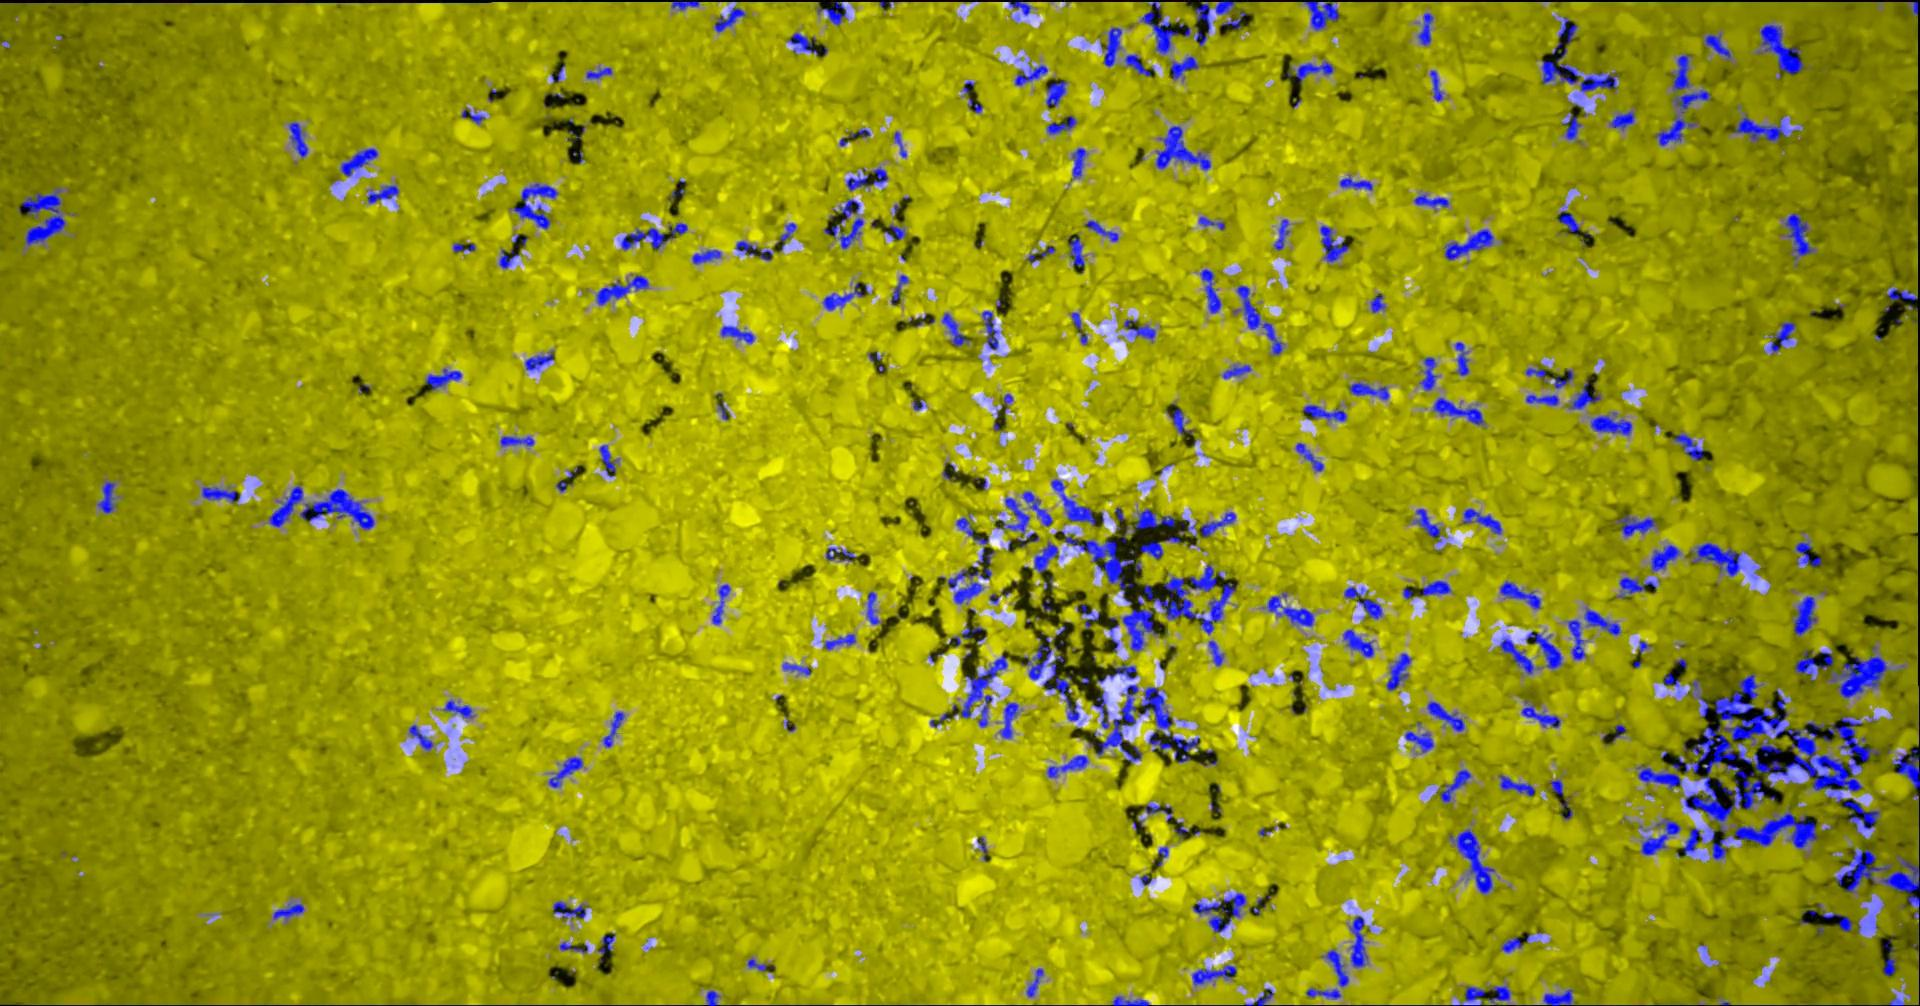ant: (1030, 636, 1079, 720), (949, 517, 996, 603), (1097, 683, 1143, 762), (1234, 285, 1284, 354), (963, 654, 1008, 727), (1451, 829, 1496, 893), (1157, 124, 1211, 169), (1882, 855, 1920, 918), (1672, 55, 1713, 112), (1761, 24, 1804, 77), (1837, 848, 1892, 890), (1194, 893, 1247, 932), (1051, 479, 1097, 525), (1142, 0, 1180, 53), (1716, 673, 1759, 719), (516, 183, 559, 227), (622, 222, 690, 249), (1691, 542, 1742, 575), (1269, 593, 1316, 626), (598, 276, 650, 305), (1837, 795, 1881, 829), (1446, 229, 1495, 259), (1642, 818, 1681, 854), (1785, 213, 1815, 259), (1435, 398, 1484, 424), (1735, 116, 1789, 140), (1528, 631, 1563, 668), (270, 486, 303, 526), (824, 282, 869, 310), (1501, 638, 1535, 673), (998, 497, 1031, 533), (1346, 586, 1383, 619), (1796, 649, 1835, 680), (1656, 116, 1697, 145), (1501, 580, 1542, 608), (1895, 744, 1920, 788), (550, 756, 584, 788), (1429, 701, 1465, 730), (1305, 0, 1340, 30), (1023, 492, 1054, 526), (1523, 700, 1561, 727), (1134, 508, 1176, 532), (1441, 768, 1472, 801), (1464, 508, 1503, 533), (1322, 225, 1350, 260), (1289, 61, 1335, 83), (342, 149, 378, 175), (1388, 653, 1413, 690), (1592, 412, 1633, 434), (1049, 754, 1090, 777), (1351, 915, 1369, 967), (943, 312, 971, 345), (1203, 511, 1237, 537), (1191, 564, 1225, 591), (1201, 268, 1222, 312), (1586, 608, 1622, 634), (1543, 60, 1582, 83), (1675, 433, 1708, 460), (1327, 948, 1350, 986), (1192, 965, 1238, 984), (1032, 542, 1060, 573), (1618, 514, 1657, 536), (1796, 596, 1817, 635), (1571, 381, 1603, 408), (1343, 629, 1375, 655), (1417, 508, 1443, 541), (1297, 442, 1324, 471), (1652, 544, 1683, 570), (1501, 774, 1537, 796), (1102, 27, 1123, 66), (1771, 321, 1797, 352), (1619, 577, 1657, 597), (604, 711, 626, 747), (712, 584, 731, 624), (737, 240, 773, 260), (427, 368, 463, 389), (1086, 220, 1120, 241), (841, 217, 865, 248), (1304, 404, 1349, 420), (1125, 318, 1157, 340), (1164, 520, 1196, 542), (1570, 619, 1587, 659), (1016, 64, 1049, 85), (1168, 408, 1195, 434), (819, 0, 847, 25), (716, 8, 745, 32), (290, 121, 309, 158), (1098, 664, 1138, 682), (1001, 702, 1020, 738), (790, 32, 819, 55), (1582, 72, 1617, 91), (951, 627, 985, 647), (983, 310, 999, 349), (1351, 382, 1390, 399), (1705, 34, 1732, 58), (1797, 542, 1823, 567), (1406, 730, 1435, 752), (1453, 986, 1486, 1005), (836, 198, 861, 222), (410, 724, 434, 749), (1172, 56, 1200, 77), (723, 325, 756, 343), (554, 901, 587, 918), (1197, 3, 1211, 44), (370, 184, 400, 203), (203, 486, 241, 502), (1095, 690, 1110, 728), (1823, 912, 1854, 931), (777, 222, 797, 250), (1421, 356, 1437, 390), (601, 445, 618, 476), (99, 481, 117, 513), (891, 274, 910, 304), (526, 351, 555, 370), (1078, 603, 1101, 627), (1126, 55, 1152, 76), (1559, 210, 1581, 235), (1048, 116, 1078, 133), (1684, 827, 1704, 854), (1559, 17, 1578, 44), (1073, 312, 1090, 344), (825, 633, 857, 649), (848, 168, 871, 191), (1048, 80, 1068, 105), (1418, 11, 1434, 44), (841, 128, 871, 145), (444, 700, 475, 716), (274, 903, 305, 920), (1564, 111, 1582, 138), (1069, 236, 1086, 265), (1145, 804, 1175, 821), (1712, 829, 1728, 859), (1246, 988, 1275, 1005), (1457, 340, 1470, 375), (1884, 941, 1898, 976), (1275, 218, 1290, 249), (1490, 984, 1512, 1005), (1341, 177, 1374, 191), (1029, 968, 1045, 996), (1611, 111, 1636, 130), (1545, 989, 1575, 1005), (1223, 11, 1247, 29), (869, 591, 881, 624), (1073, 147, 1087, 177), (693, 249, 723, 263), (1415, 194, 1450, 206), (1142, 540, 1164, 558), (1307, 987, 1342, 998), (1431, 70, 1444, 102), (1888, 288, 1920, 301), (1224, 365, 1252, 379), (1423, 580, 1451, 594), (500, 249, 521, 268), (827, 547, 857, 560), (1210, 640, 1225, 666), (1553, 370, 1575, 387), (1114, 995, 1150, 1005), (783, 662, 813, 674), (1528, 394, 1559, 405), (463, 108, 486, 123), (895, 131, 908, 158), (502, 434, 535, 445), (1761, 739, 1782, 756), (1011, 0, 1032, 15), (1018, 532, 1040, 547), (1200, 216, 1225, 229), (885, 224, 905, 239), (599, 932, 615, 953), (1553, 42, 1568, 61), (1561, 798, 1575, 818), (1503, 937, 1524, 951), (1217, 0, 1238, 13), (673, 0, 700, 10), (874, 166, 889, 184), (1371, 293, 1385, 312), (588, 67, 613, 77), (561, 942, 589, 951), (749, 958, 768, 970), (1550, 779, 1564, 795), (1528, 367, 1547, 379), (825, 224, 842, 236), (1665, 672, 1681, 685), (455, 243, 477, 251), (707, 989, 720, 1005), (971, 98, 984, 112), (1912, 0, 1920, 17)
